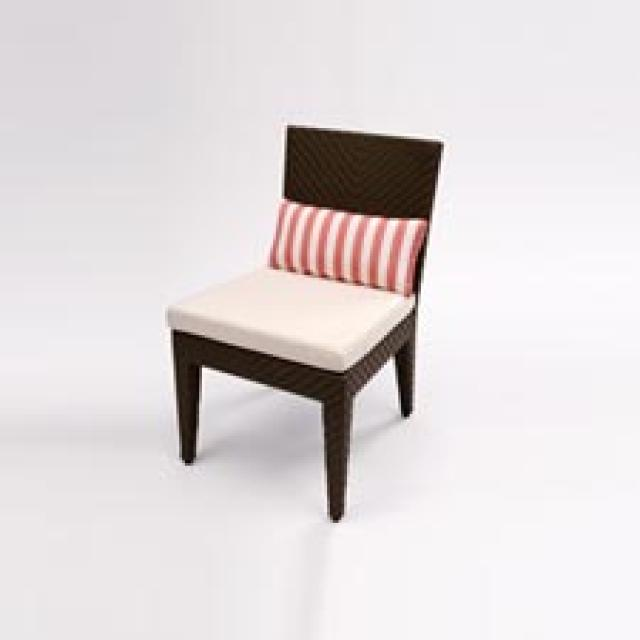chair: (162, 120, 446, 524)
